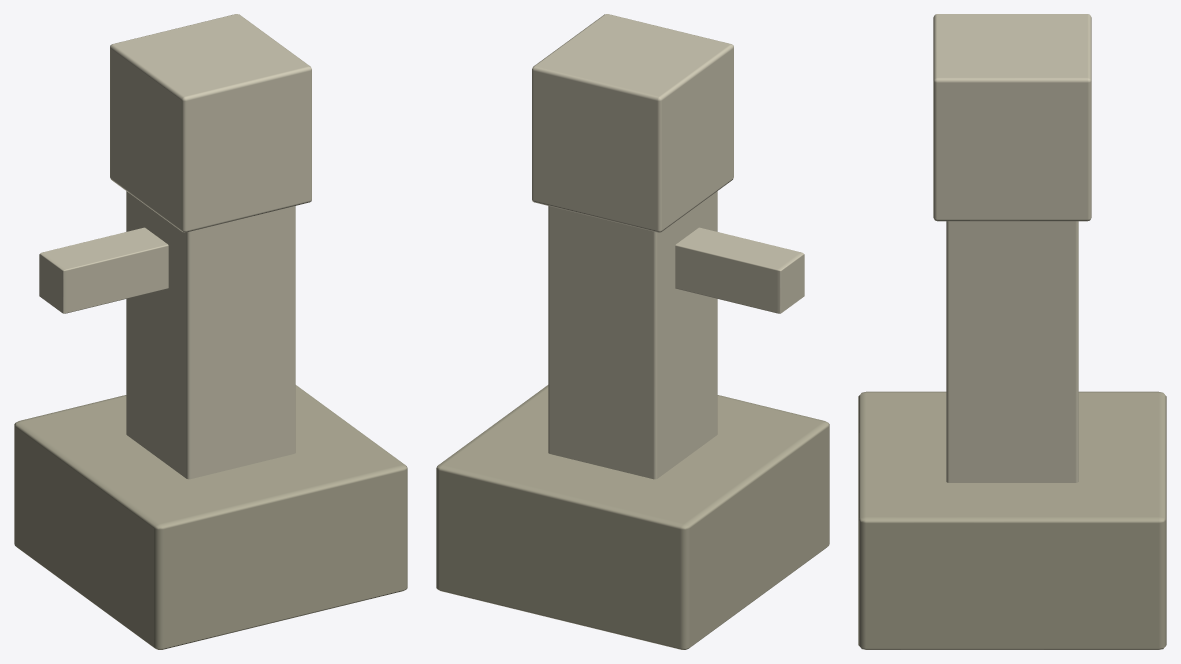
Rendered from statue-2.glb.
3 views of the same model, side by side, from view 1: azimuth 30°, elevation 25°; view 2: azimuth 150°, elevation 25°; view 3: azimuth 270°, elevation 25° (orthographic). The views are drawn at different scales.
Parts seen in each view (by area): view 1: statue-2-0; view 2: statue-2-0; view 3: statue-2-0.
Part boxes in pixels (<box>): statue-2-0: <box>14,14,407,649</box>; statue-2-0: <box>436,14,829,649</box>; statue-2-0: <box>858,14,1166,649</box>.
Bounding box in the file's own units: 0.815 × 1.39 × 0.72.
